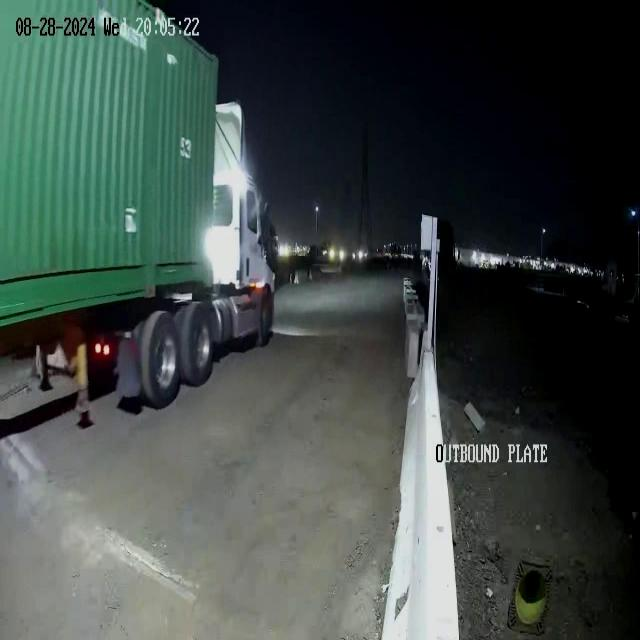TRUCK_CONTAINER: (1, 1, 279, 433)
